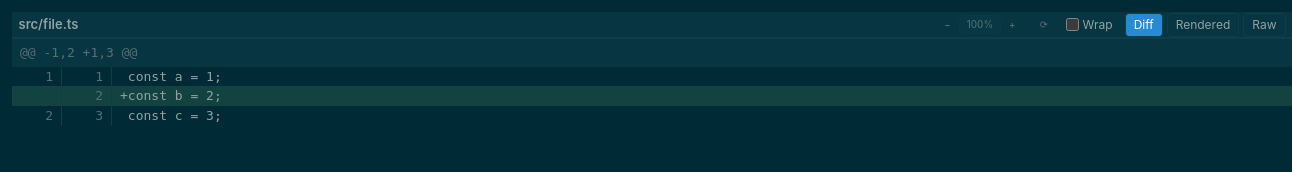
ContentViewer › switches modes when a mode tab is clicked
The image size is (1292, 172).
Expected: the text "const b = 2;" is shown, [128,88,222,103]
Click the tab "Raw": x=1264, y=24 [1243,12,1286,36]
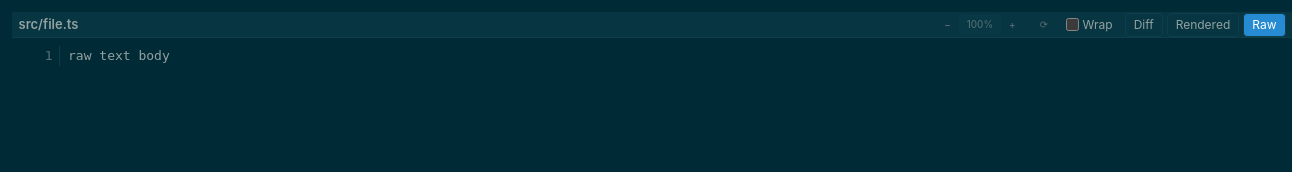
Expected: the text "raw text body" is shown, [68,48,170,63]
